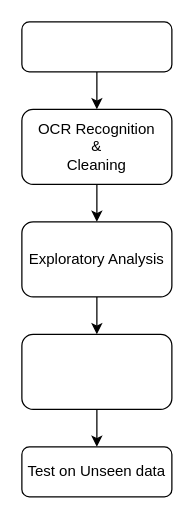
The diagram is 194 pixels wide and 519 high, and some of its shapes have lost their labels. Here are the shapes that lost their labels. From the top down, the centre of each, then its label:
At [96,46]: "Web scraping".
At [96,371]: "Type and Author Classification".
